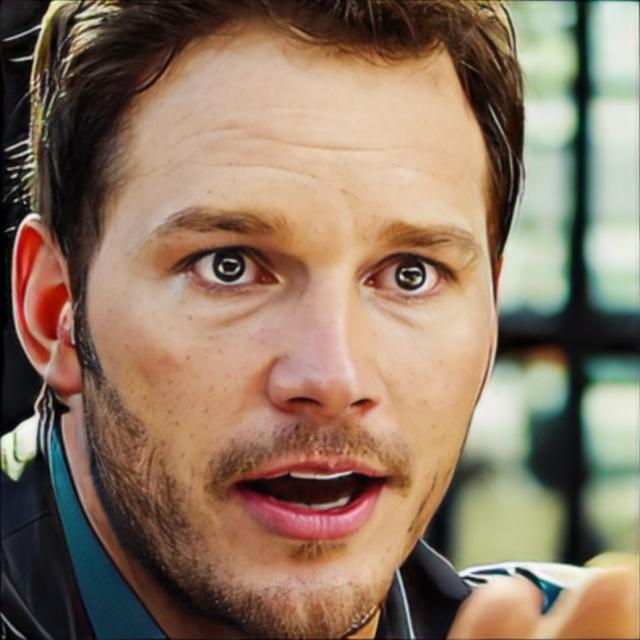surprise: (84, 0, 500, 640)
